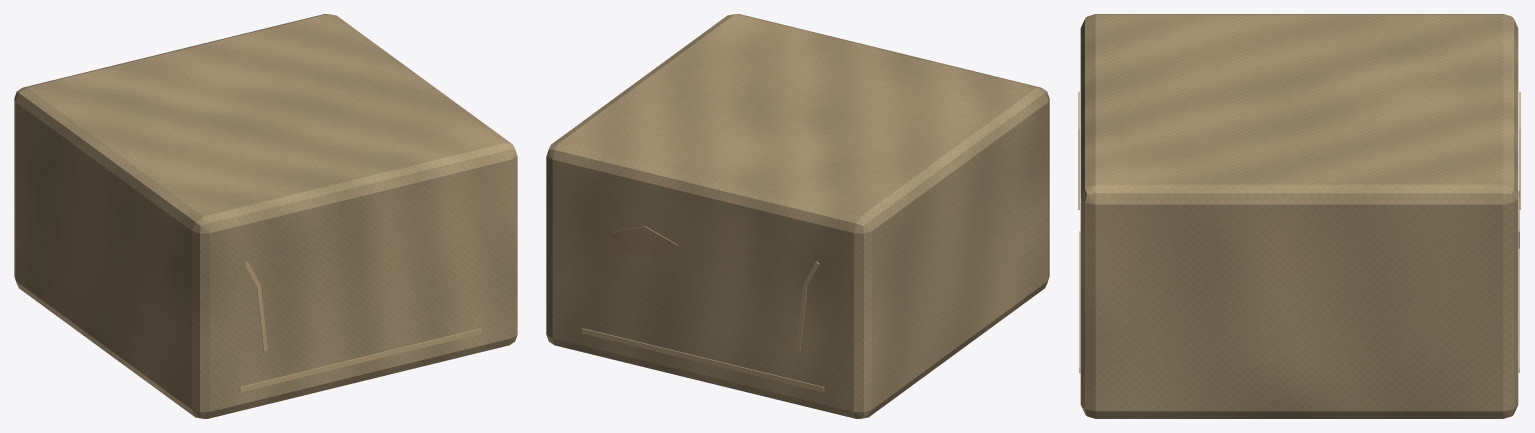
The model's file is 04_Manche_LeftLowerArm.fbx.
The picture shows the model from 3 angles, left to right: view 1: azimuth 30°, elevation 25°; view 2: azimuth 150°, elevation 25°; view 3: azimuth 270°, elevation 25°; orthographic projection. The views are drawn at different scales.
Parts seen in each view (by area): view 1: 04_Manche_LeftLowerArm; view 2: 04_Manche_LeftLowerArm; view 3: 04_Manche_LeftLowerArm.
Boxes of the visible parts, left/top/right/bottom form: 04_Manche_LeftLowerArm: left=14, top=14, right=517, bottom=418; 04_Manche_LeftLowerArm: left=546, top=14, right=1049, bottom=418; 04_Manche_LeftLowerArm: left=1078, top=14, right=1520, bottom=418.
Bounding box in the file's own units: 1.03 × 0.614 × 1.05.
1 material, 1 textured.
